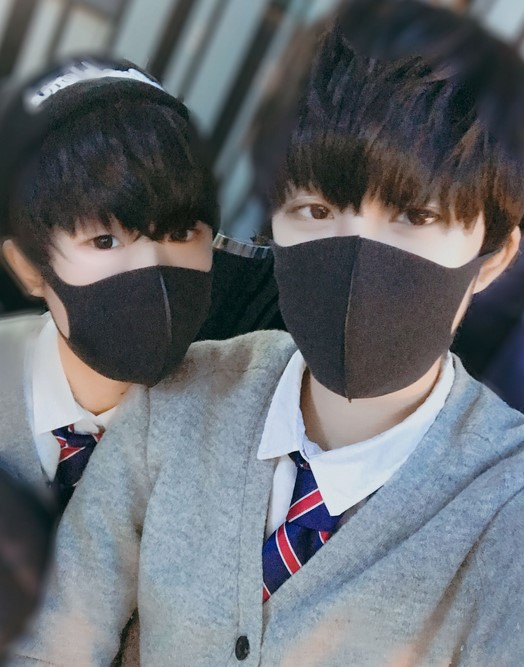face_with_mask: (266, 8, 521, 400), (6, 55, 218, 392)
